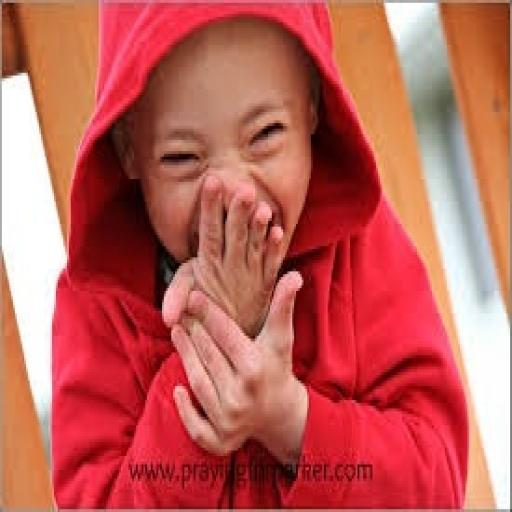laughing: (47, 0, 469, 509)
